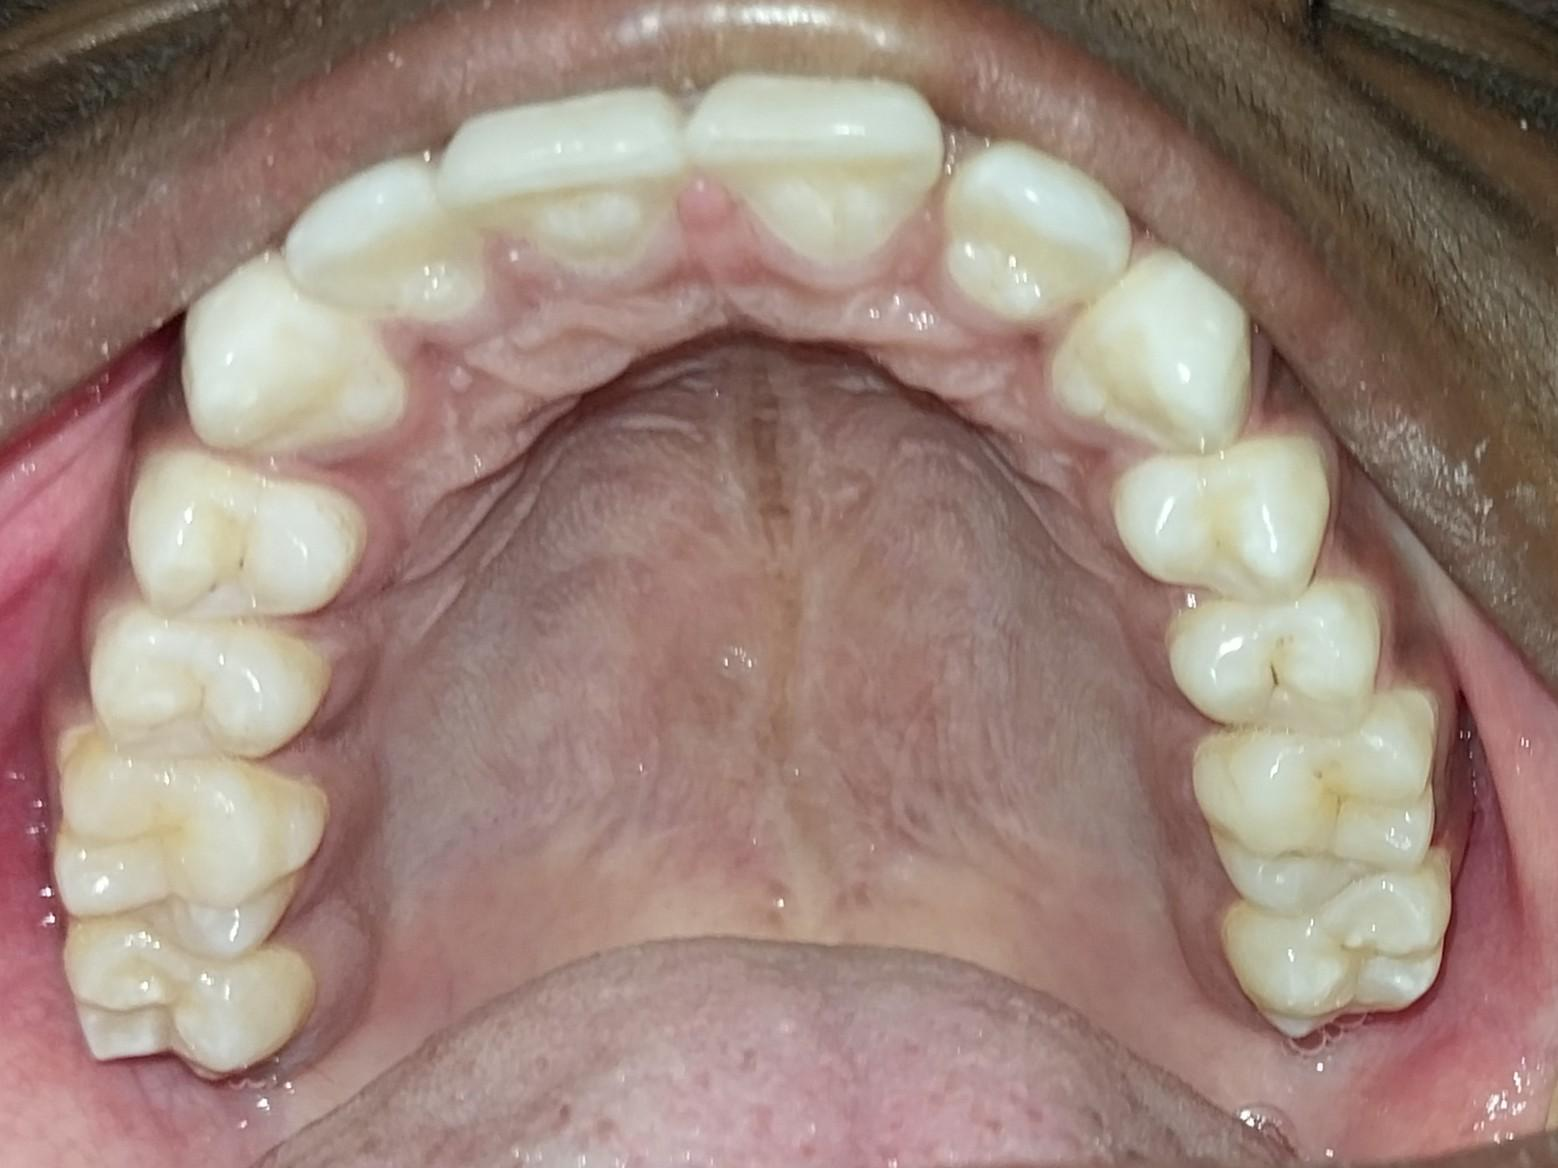D: (1172, 594, 1384, 727)
